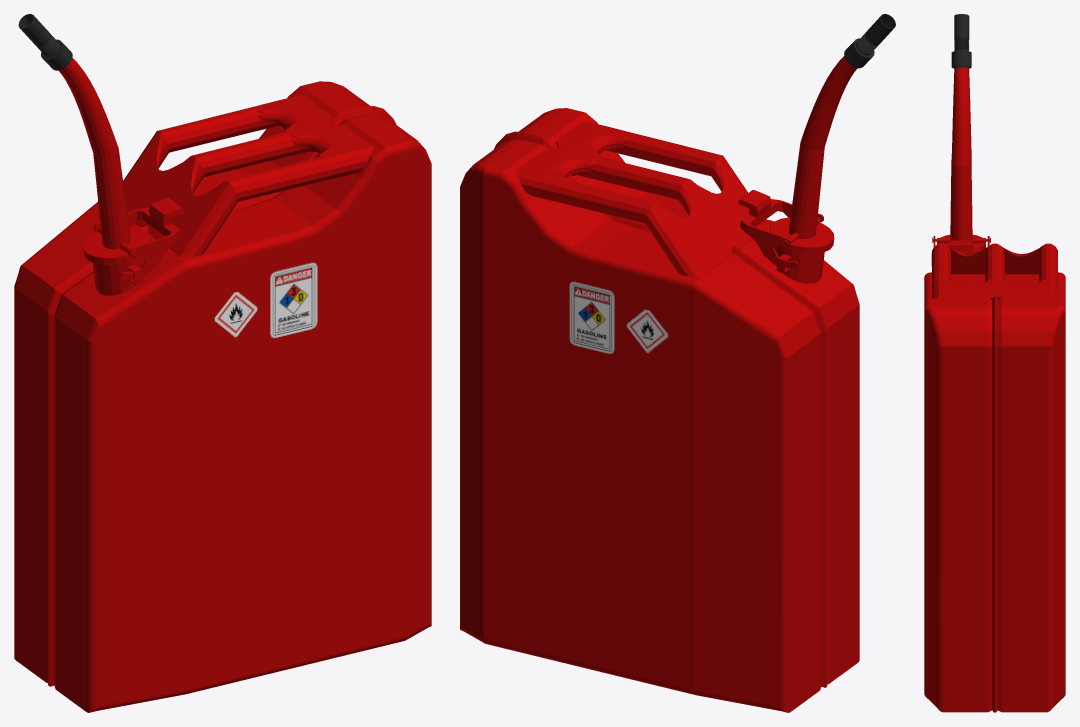
Rendered from JerryCan_51.fbx.
The picture shows the model from 3 angles, left to right: view 1: azimuth 30°, elevation 25°; view 2: azimuth 150°, elevation 25°; view 3: azimuth 270°, elevation 25°; orthographic projection. The views are drawn at different scales.
Parts seen in each view (by area): view 1: FinalCanGroup1; view 2: FinalCanGroup1; view 3: FinalCanGroup1.
Part boxes in pixels (box(x1,y1,x2,y2)): FinalCanGroup1: box(14, 14, 431, 712); FinalCanGroup1: box(460, 14, 895, 712); FinalCanGroup1: box(924, 14, 1065, 712).
Bounding box in the file's own units: 6.62 × 10.97 × 2.56.
Materials: 1 (1 with a texture image).
